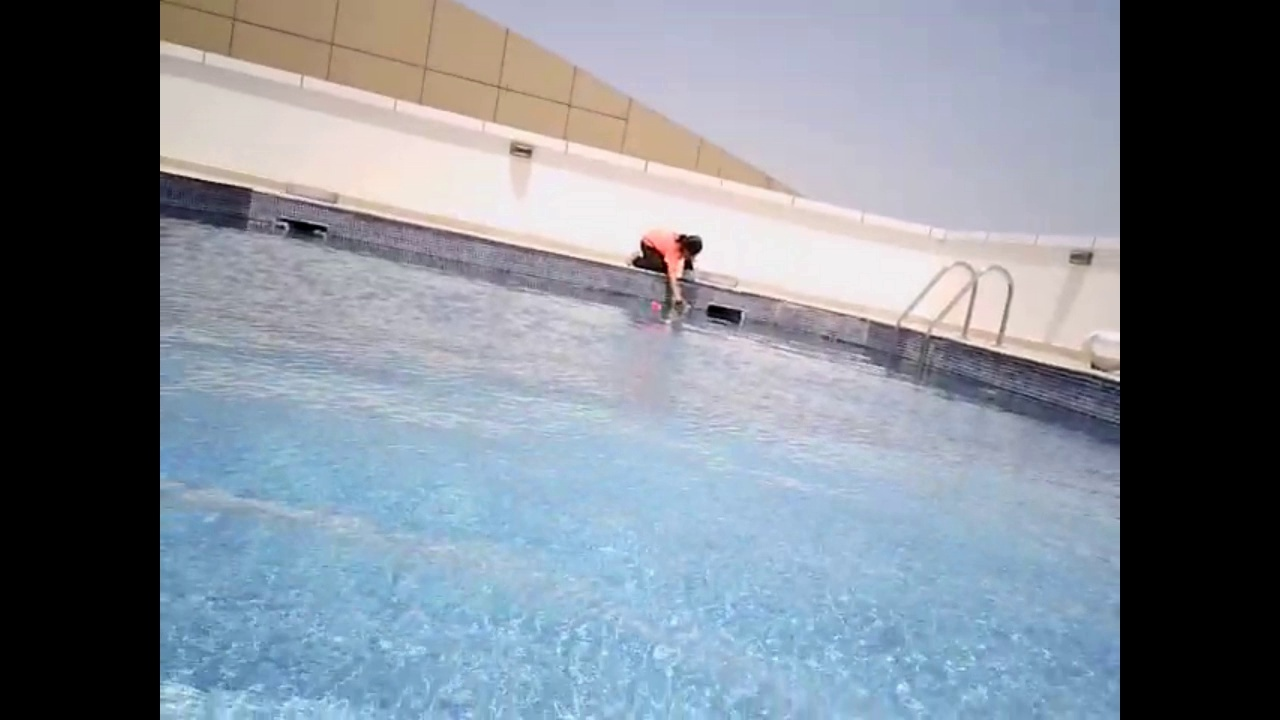debris: (307, 225, 328, 243), (271, 218, 292, 235), (647, 297, 662, 314)
